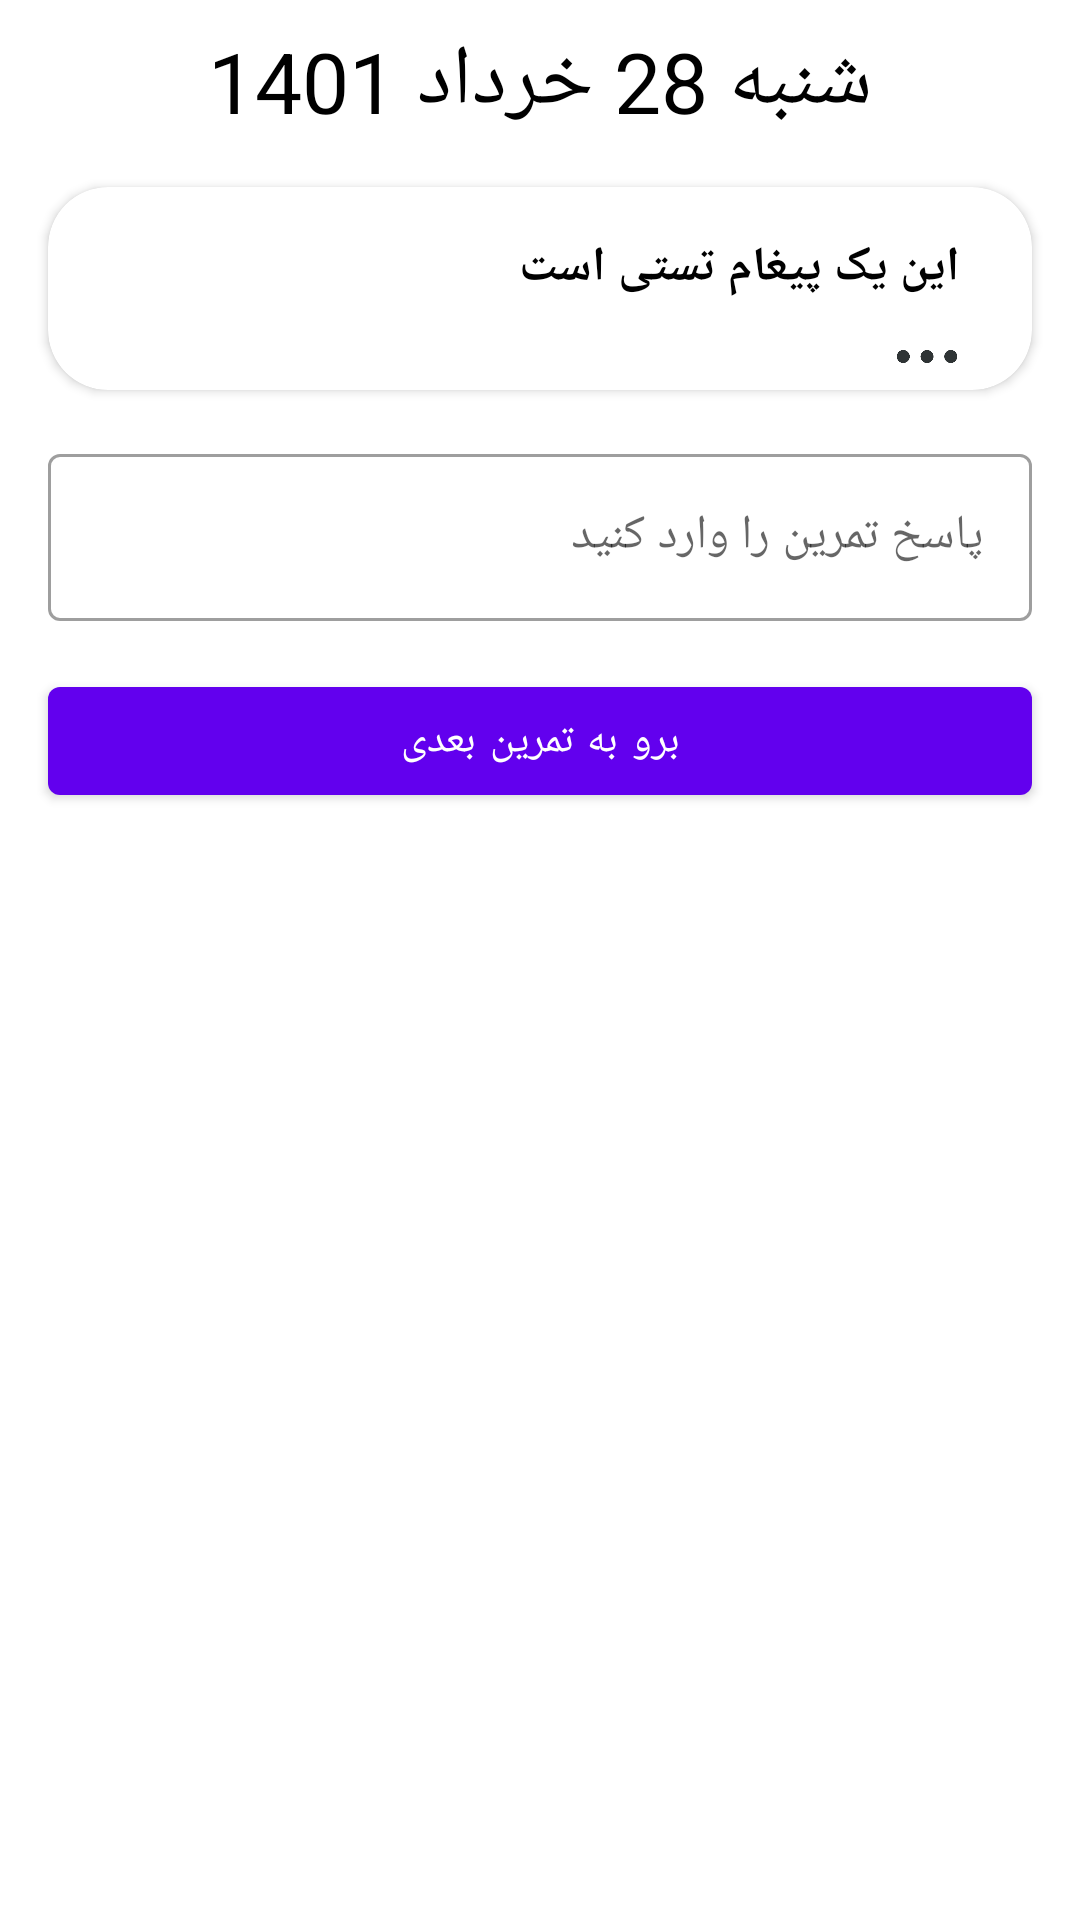

Icon bounding boxes for this 1080w x 1920h phone screenshot, format (x1, y1, x2, y2):
option: (897, 350, 957, 363)
